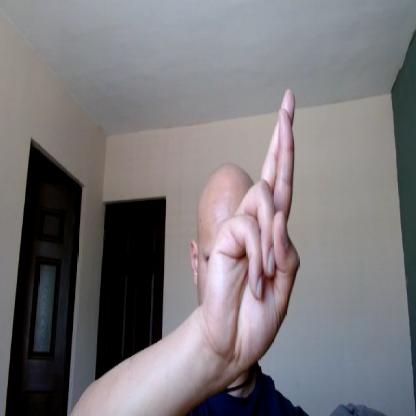R: (208, 90, 300, 363)
